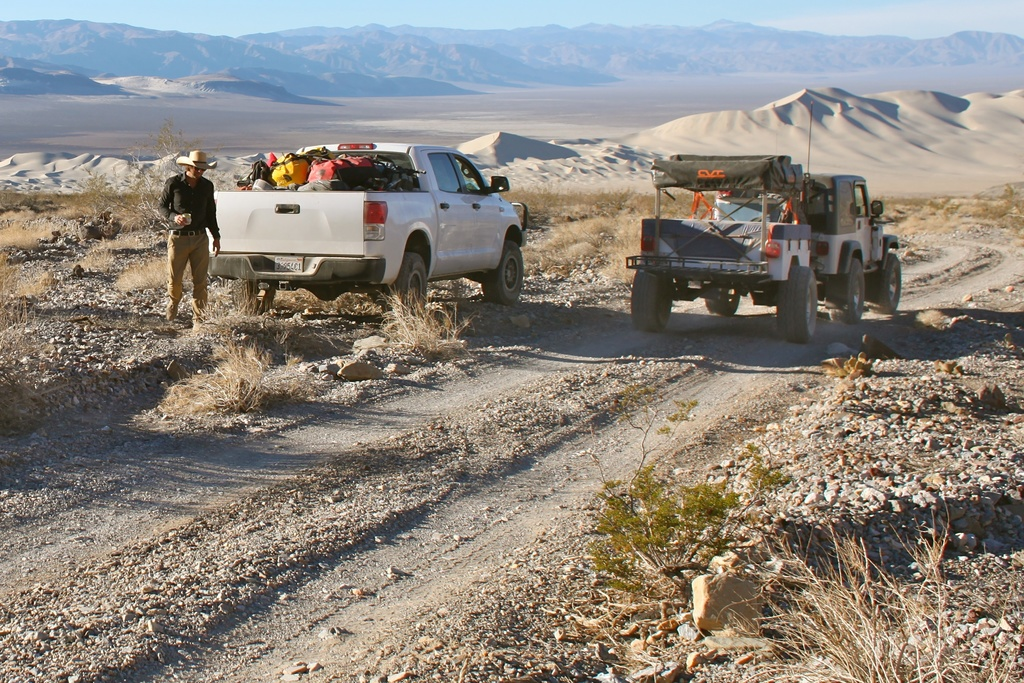car: (180, 121, 560, 335), (705, 143, 932, 327)
